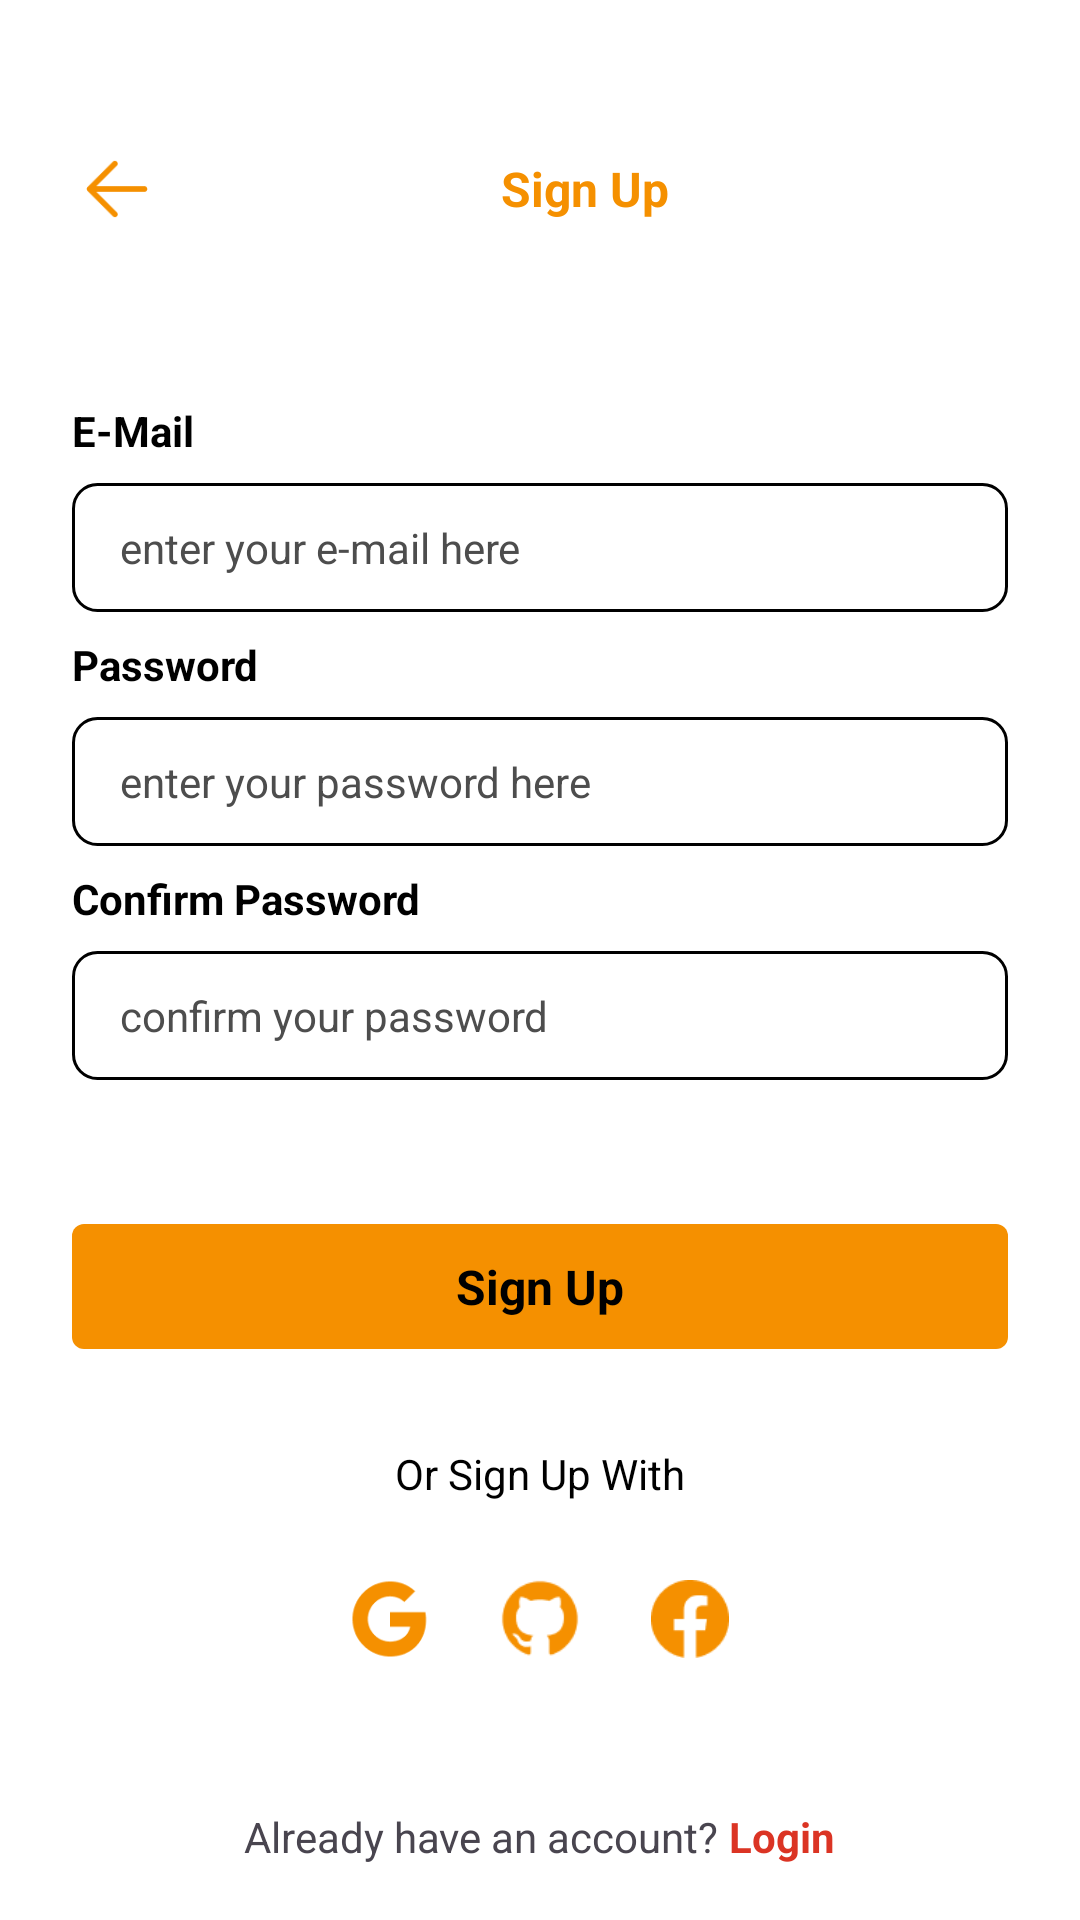

Screen size 1080w x 1920h. Icon name, then its box in pixels as (x1=x1, y1=y1, x2=x2, y2=y2):
back arrow: (x1=86, y1=161, x2=148, y2=217)
